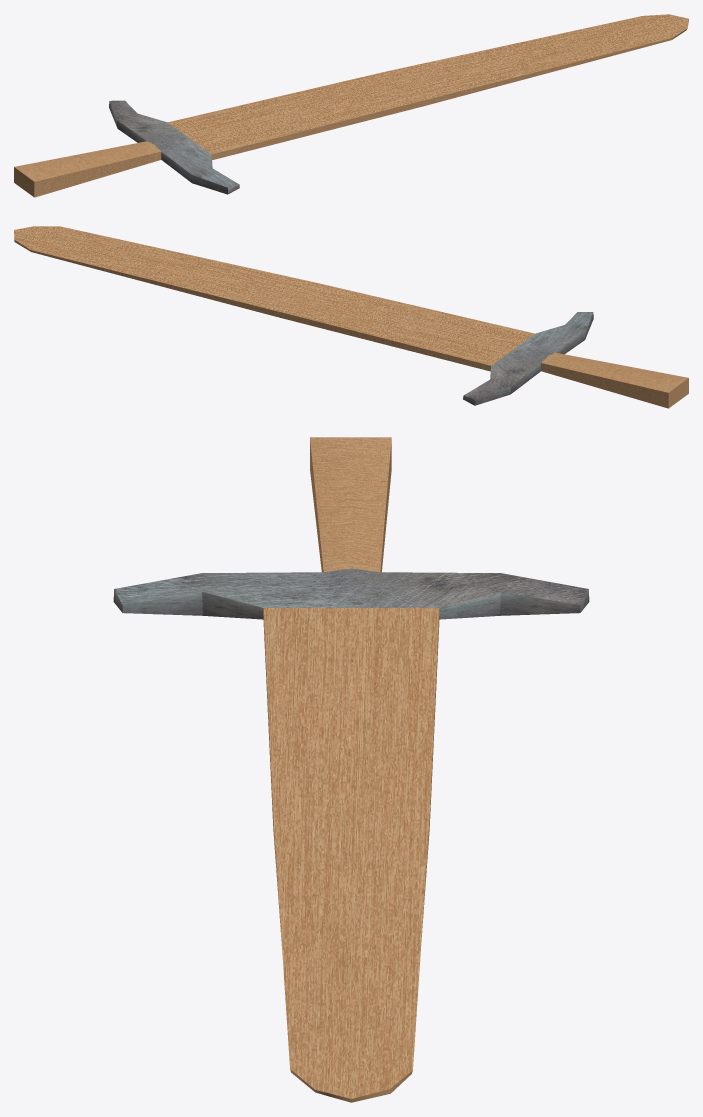
File: Wooden_Sword.FBX
The picture shows the model from 3 angles, top to bottom: view 1: azimuth 30°, elevation 25°; view 2: azimuth 150°, elevation 25°; view 3: azimuth 270°, elevation 25°; orthographic projection. The views are drawn at different scales.
Parts seen in each view (by area): view 1: Sword; view 2: Sword; view 3: Sword.
Part boxes in pixels (left/top/right/bottom): Sword: left=14, top=14, right=688, bottom=197; Sword: left=14, top=226, right=688, bottom=408; Sword: left=113, top=437, right=589, bottom=1102.
Bounding box in the file's own units: 14.49 × 4.49 × 0.3282.
Materials: 1 (1 with a texture image).
